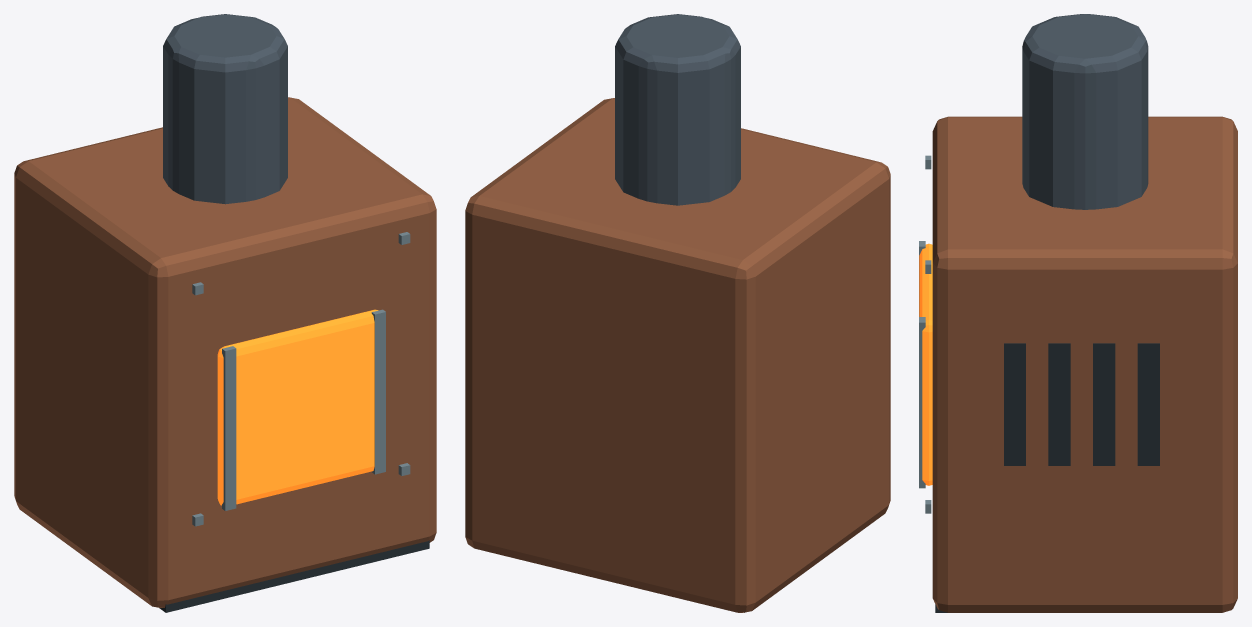
File: Foundry-Furnace.glb
The picture shows the model from 3 angles, left to right: view 1: azimuth 30°, elevation 25°; view 2: azimuth 150°, elevation 25°; view 3: azimuth 270°, elevation 25°; orthographic projection. The views are drawn at different scales.
Parts seen in each view (by area): view 1: Furnace_Body.001, Furnace_Mouth.001, Furnace_Chimney.001, Detail_Assembly; view 2: Furnace_Body.001, Furnace_Chimney.001; view 3: Furnace_Body.001, Furnace_Chimney.001, Detail_Assembly, Furnace_Mouth.001.
Part boxes in pixels (bbox=[...]): Furnace_Body.001: bbox=[14, 97, 436, 607]; Furnace_Mouth.001: bbox=[217, 309, 378, 505]; Furnace_Chimney.001: bbox=[163, 14, 287, 204]; Detail_Assembly: bbox=[159, 232, 429, 612]; Furnace_Body.001: bbox=[465, 98, 890, 612]; Furnace_Chimney.001: bbox=[615, 14, 740, 205]; Furnace_Body.001: bbox=[932, 116, 1237, 612]; Furnace_Chimney.001: bbox=[1022, 14, 1148, 209]; Detail_Assembly: bbox=[919, 155, 1159, 612]; Furnace_Mouth.001: bbox=[919, 243, 932, 485].
Size of the model in its own units: 1.8 by 2.95 by 1.67.
